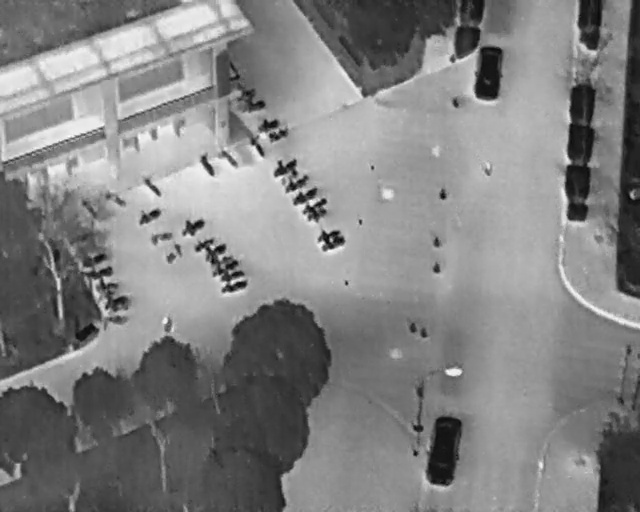Bicycle: (267, 150, 301, 180), (175, 212, 208, 241), (132, 202, 165, 231), (244, 129, 271, 162), (280, 170, 313, 196), (289, 182, 322, 208), (297, 192, 330, 218), (208, 257, 242, 281), (101, 292, 133, 316), (216, 144, 243, 172), (313, 222, 343, 247), (203, 238, 229, 266), (318, 233, 349, 256), (196, 150, 219, 180), (91, 273, 122, 295), (141, 174, 166, 201), (103, 187, 131, 211), (160, 241, 186, 266), (303, 204, 331, 227), (191, 232, 218, 255), (218, 277, 249, 297), (217, 266, 248, 286), (79, 249, 109, 269), (86, 263, 116, 283), (241, 95, 268, 117), (255, 113, 281, 135), (148, 226, 175, 246), (265, 124, 290, 145), (235, 84, 259, 104), (211, 253, 236, 270), (102, 313, 129, 327)
Car: (423, 412, 465, 488), (470, 42, 506, 104)
Person: (161, 315, 174, 335), (482, 160, 492, 176)
